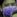with_mask: (2, 1, 17, 17)
